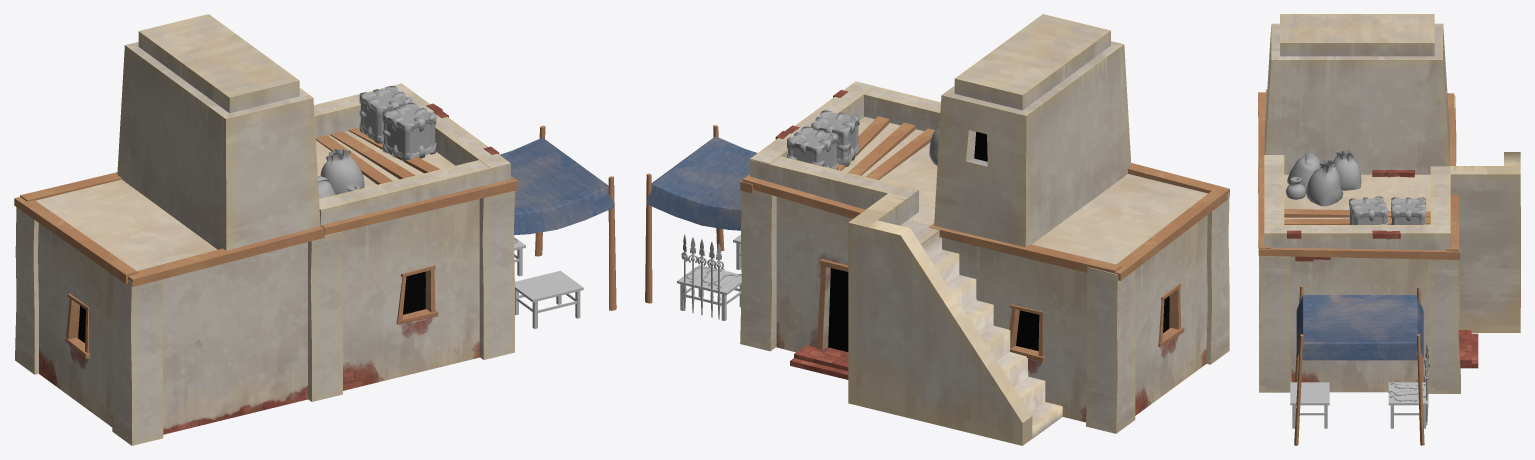
The model's file is SM_house_3.fbx.
3 views of the same model, side by side, from view 1: azimuth 30°, elevation 25°; view 2: azimuth 150°, elevation 25°; view 3: azimuth 270°, elevation 25° (orthographic). The views are drawn at different scales.
Parts seen in each view (by area): view 1: kit1_carpet5, side20, side22, side19, side21, polySurface982, SM_SmallCrate2, polySurface981, polySurface985, group29_pCube1295, SM_SmallCrate1, SM_Bag_014 (+3 smaller); view 2: kit1_carpet5, side21, side23, side20, polySurface984, polySurface985, SM_SmallCrate1, group29_pCube1294, SM_SmallCrate2, polySurface983, polySurface982, polySurface987 (+1 smaller); view 3: kit1_carpet5, side22, side23, polySurface979, SM_Bag_014, group29_pCube1295, SM_SmallCrate2, group29_pCube1294, SM_SmallCrate1, SM_Bag_015, SM_Bag_016, polySurface988 (+6 smaller).
Part boxes in pixels (x1=…): kit1_carpet5: x1=36, y1=14, x2=616, y2=434; side20: x1=112, y1=276, x2=163, y2=445; side22: x1=479, y1=190, x2=514, y2=359; side19: x1=308, y1=231, x2=342, y2=401; side21: x1=15, y1=207, x2=38, y2=374; polySurface982: x1=128, y1=226, x2=324, y2=286; SM_SmallCrate2: x1=382, y1=102, x2=436, y2=161; polySurface981: x1=321, y1=177, x2=516, y2=235; polySurface985: x1=14, y1=197, x2=138, y2=283; group29_pCube1295: x1=515, y1=270, x2=583, y2=328; SM_SmallCrate1: x1=359, y1=86, x2=412, y2=143; SM_Bag_014: x1=320, y1=148, x2=364, y2=194; kit1_carpet5: x1=645, y1=14, x2=1207, y2=445; side21: x1=1085, y1=267, x2=1135, y2=433; side23: x1=740, y1=189, x2=776, y2=351; side20: x1=1206, y1=193, x2=1229, y2=364; polySurface984: x1=928, y1=223, x2=1121, y2=272; polySurface985: x1=1108, y1=188, x2=1227, y2=280; SM_SmallCrate1: x1=787, y1=126, x2=838, y2=169; group29_pCube1294: x1=677, y1=264, x2=741, y2=320; SM_SmallCrate2: x1=811, y1=110, x2=859, y2=166; polySurface983: x1=742, y1=174, x2=865, y2=218; polySurface982: x1=1128, y1=163, x2=1229, y2=195; polySurface987: x1=848, y1=122, x2=915, y2=175; kit1_carpet5: x1=1264, y1=14, x2=1520, y2=445; side22: x1=1259, y1=256, x2=1291, y2=392; side23: x1=1427, y1=259, x2=1460, y2=393; polySurface979: x1=1259, y1=247, x2=1459, y2=259; SM_Bag_014: x1=1305, y1=160, x2=1343, y2=206; group29_pCube1295: x1=1290, y1=382, x2=1329, y2=428; SM_SmallCrate2: x1=1349, y1=196, x2=1388, y2=224; group29_pCube1294: x1=1388, y1=382, x2=1427, y2=428; SM_SmallCrate1: x1=1391, y1=197, x2=1425, y2=224; SM_Bag_015: x1=1333, y1=150, x2=1361, y2=190; SM_Bag_016: x1=1287, y1=152, x2=1320, y2=189; polySurface988: x1=1284, y1=209, x2=1430, y2=217.
Bounding box in the file's own units: 11.73 × 6.93 × 6.16.
